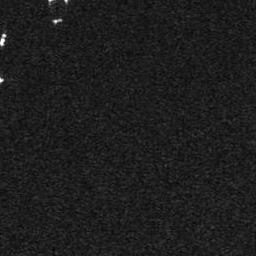ship: (1, 34, 7, 47)
